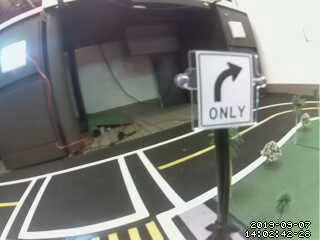Right_only_sign: (196, 48, 262, 131)
